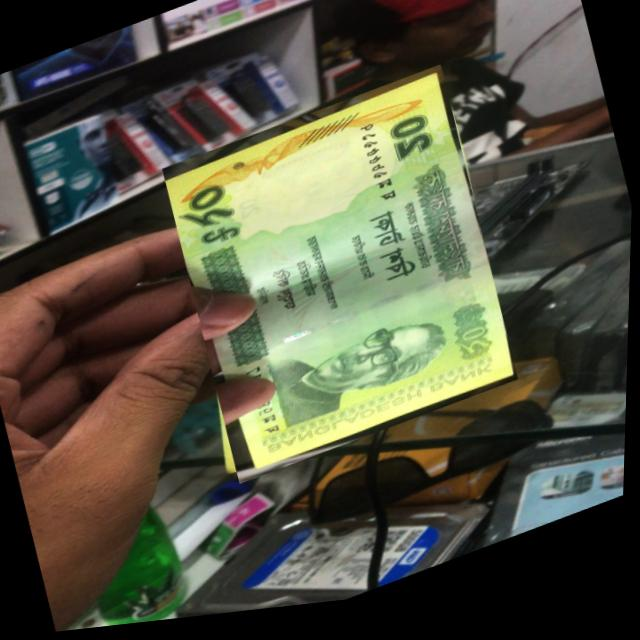Taka: (156, 67, 528, 496)
